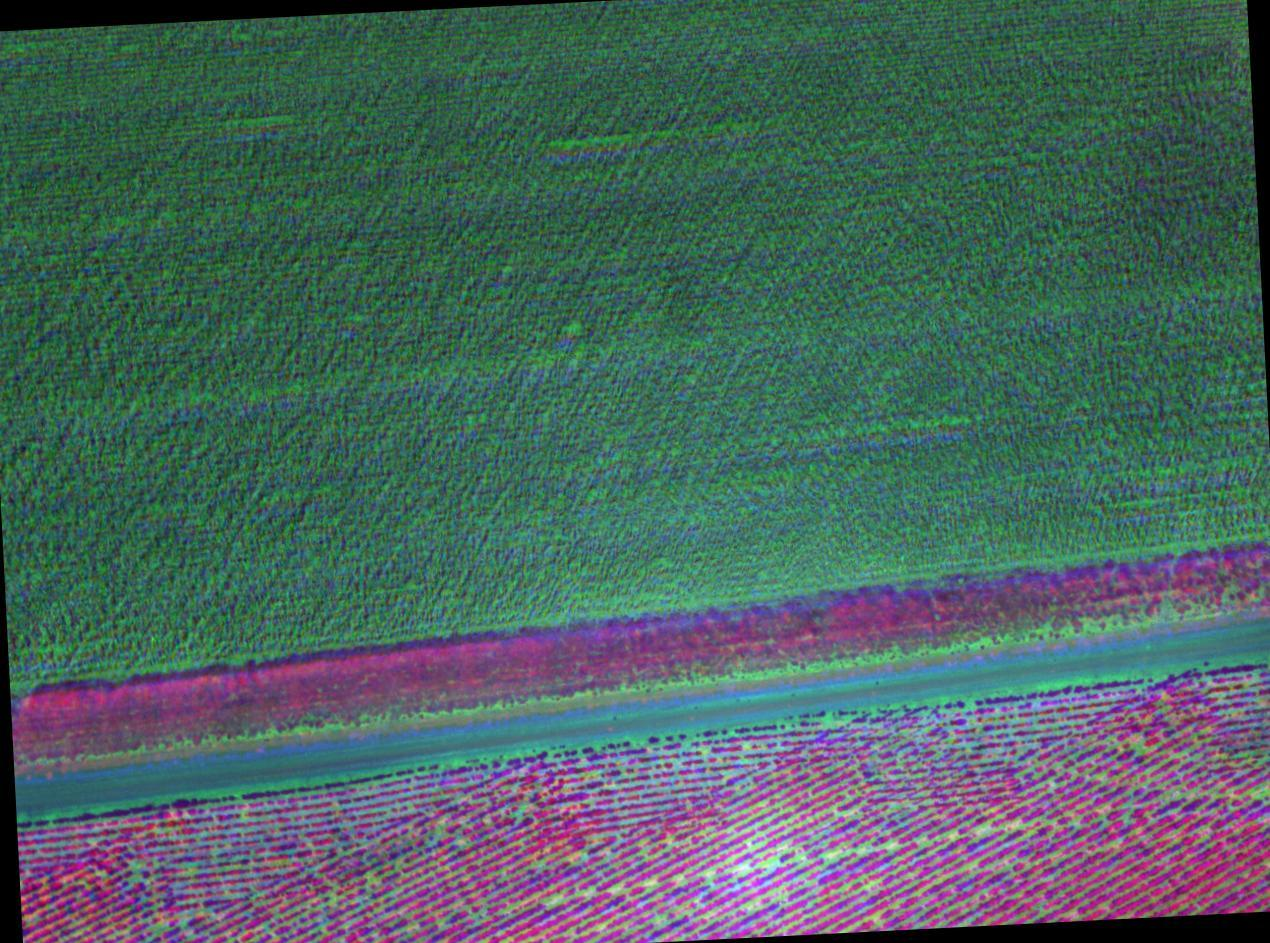dc: (831, 850, 838, 857), (1255, 788, 1261, 794), (1136, 744, 1141, 750), (979, 827, 984, 833), (707, 870, 712, 876), (189, 869, 194, 874), (747, 903, 752, 908), (156, 926, 161, 931), (580, 850, 584, 855), (370, 879, 374, 883), (332, 897, 336, 901), (1098, 774, 1101, 778), (241, 810, 244, 814)
